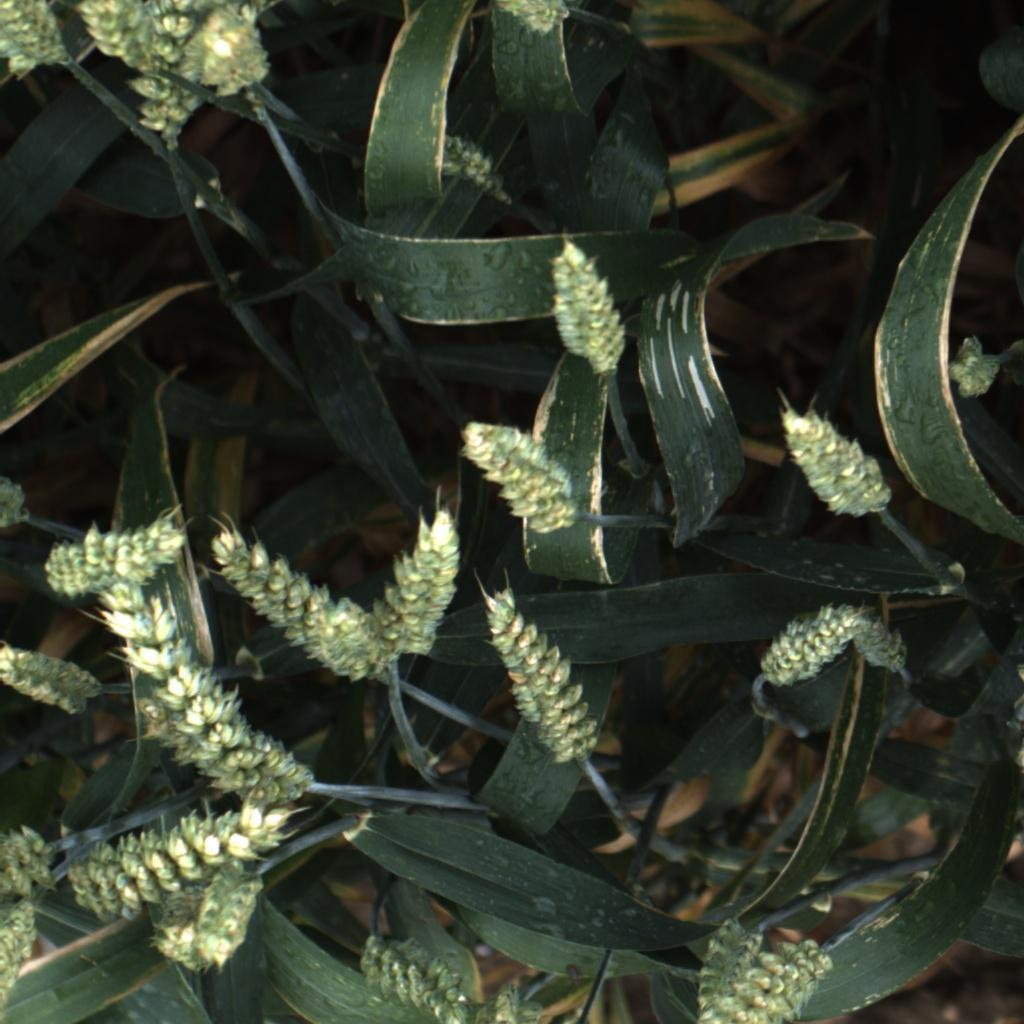0-0: (63, 799, 294, 929), (212, 521, 384, 678), (96, 575, 257, 713), (477, 584, 598, 759), (138, 705, 319, 801), (770, 398, 897, 522), (461, 419, 589, 531), (47, 505, 192, 603), (123, 0, 212, 150), (386, 501, 464, 658), (546, 238, 632, 376), (703, 939, 837, 1024), (361, 932, 479, 1024), (141, 864, 245, 965), (755, 596, 861, 693), (685, 913, 774, 1024), (187, 863, 262, 981), (4, 636, 98, 723), (427, 121, 513, 204), (200, 0, 266, 95), (1, 897, 51, 1019), (61, 0, 158, 57), (941, 328, 1008, 407), (3, 0, 66, 82), (0, 816, 61, 897), (849, 607, 915, 674), (471, 985, 550, 1024), (479, 0, 561, 34)
